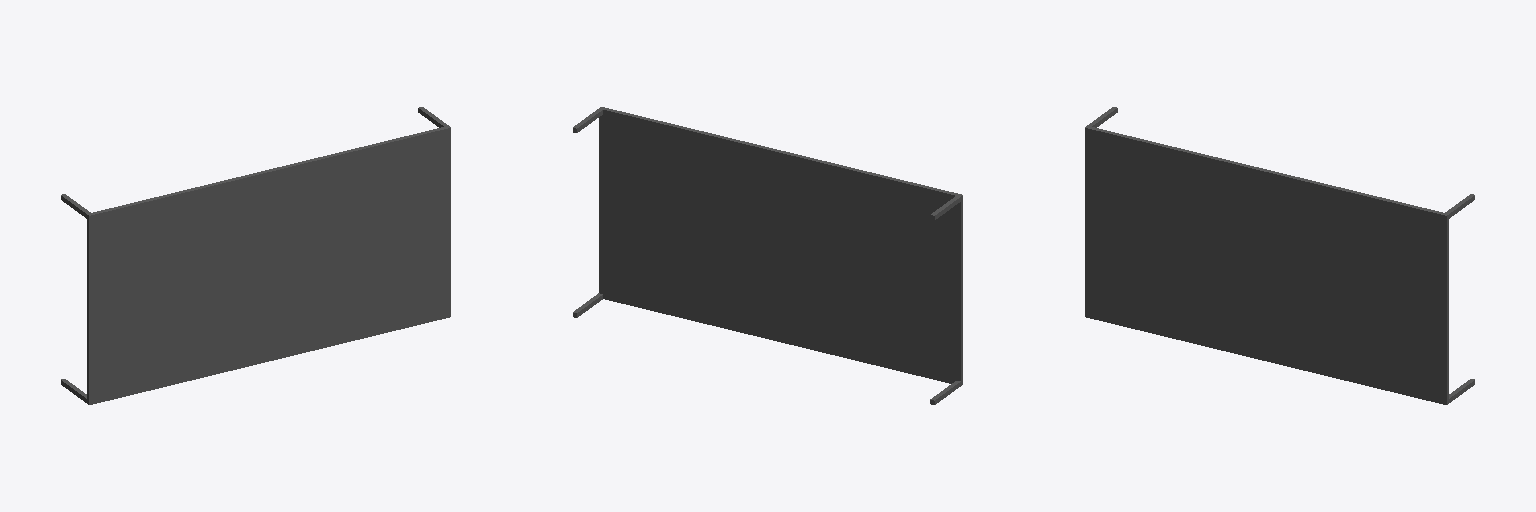
File: table_with_textured_top.obj
The picture shows the model from 3 angles: view 1: azimuth 30°, elevation 25°; view 2: azimuth 150°, elevation 25°; view 3: azimuth 330°, elevation 25°; orthographic projection.
Size of the model in its own units: 4 by 2 by 0.55.